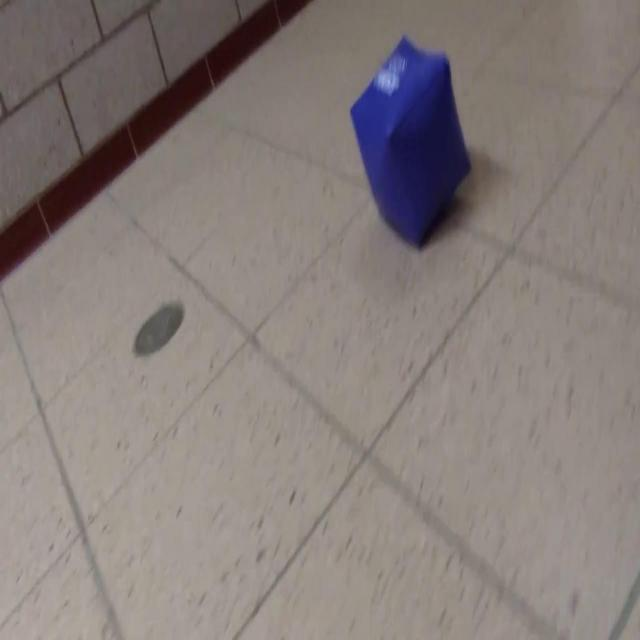frc_cube: (348, 37, 472, 251)
